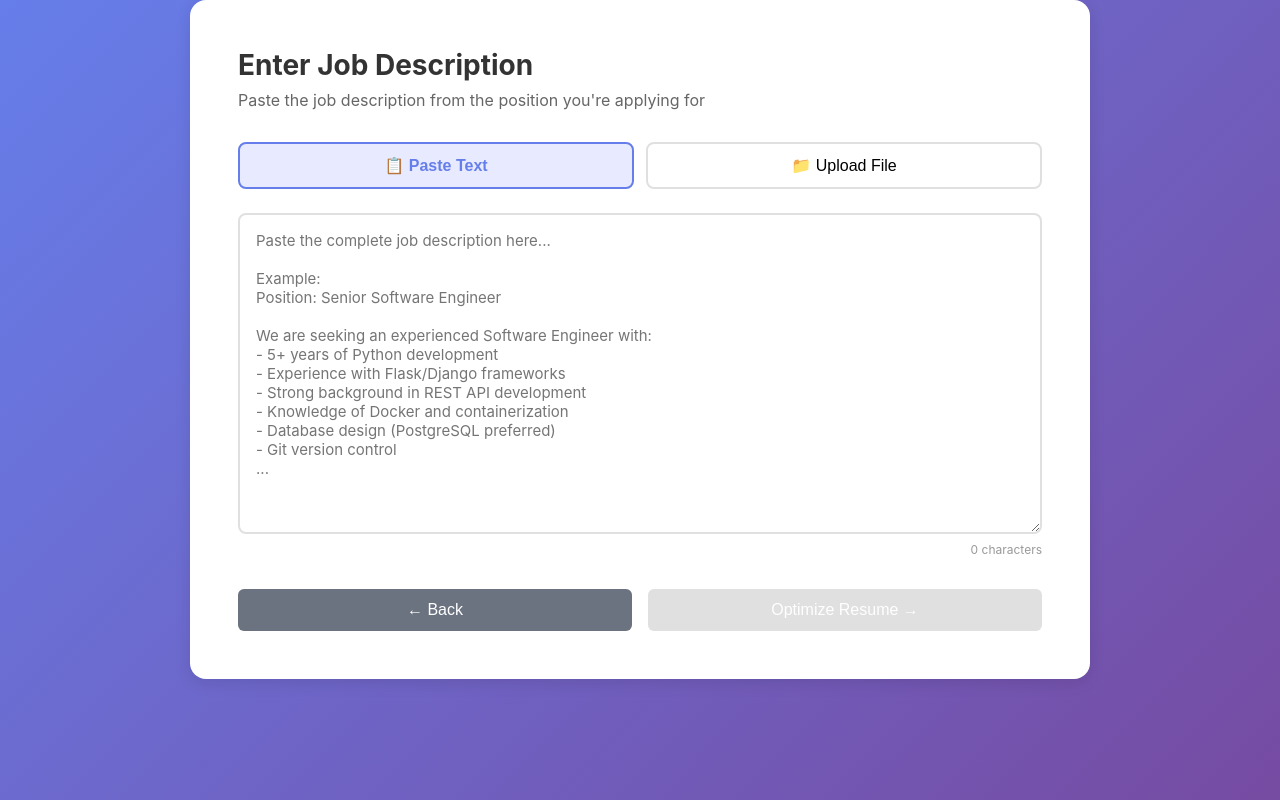
JobDescriptionInput › shows minimum warning when text entered but too short
Step 1. Replace the text in the text box with placeholder "Paste the complete job description" with "Short text" → (640, 374), box [238,213,1042,534]
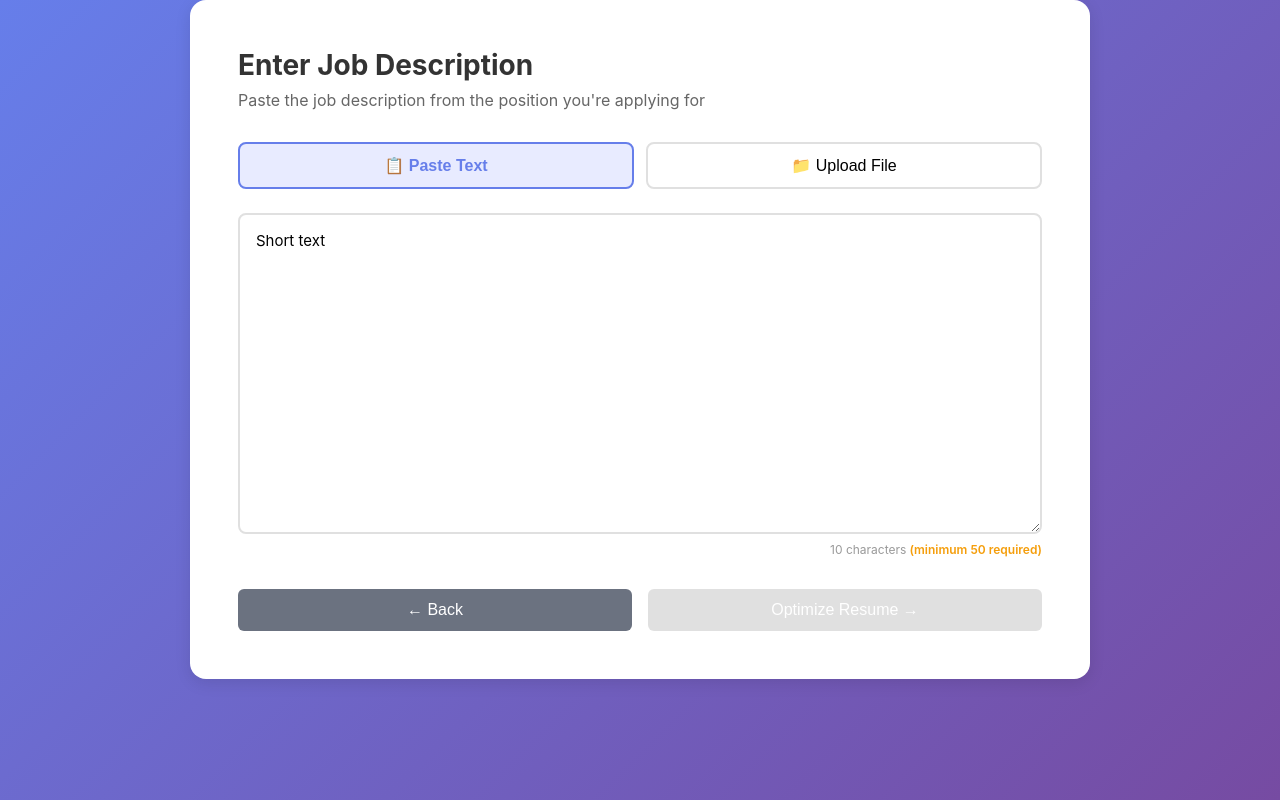
Now the text "(minimum 50 required)" is shown, box [906,542,1042,557]
